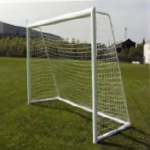goals: (24, 7, 131, 144)
